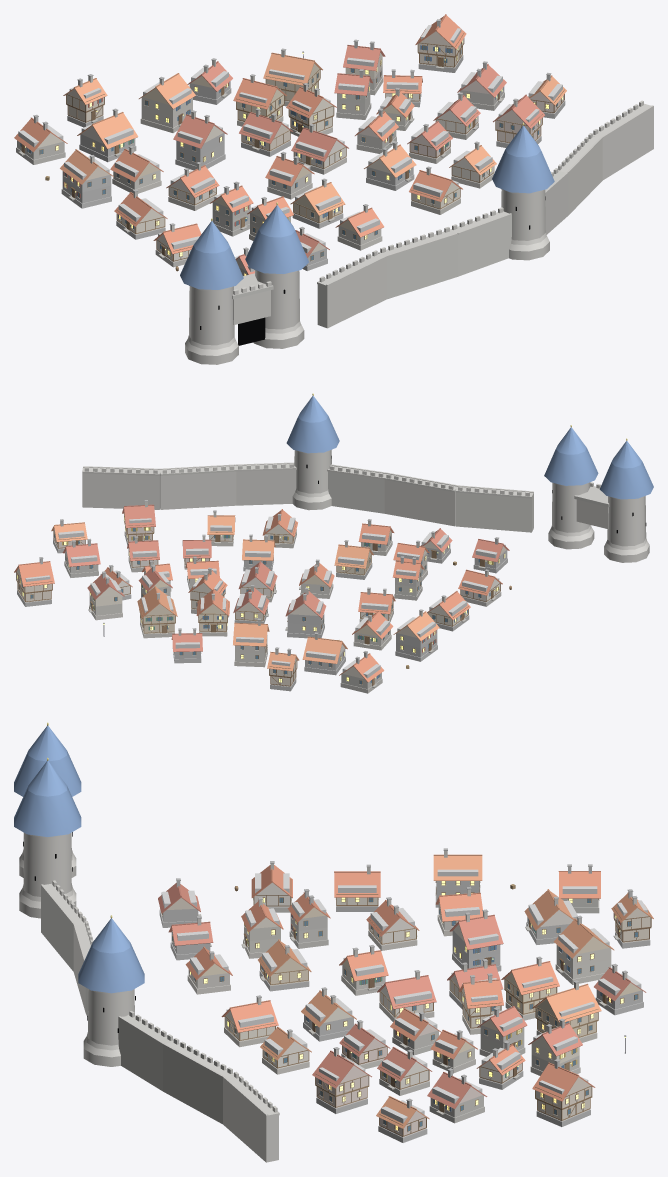
File: struct_8_9.glb
3 views of the same model, one above another, from view 1: azimuth 30°, elevation 25°; view 2: azimuth 150°, elevation 25°; view 3: azimuth 270°, elevation 25° (orthographic). The views are drawn at different scales.
Visible parts, largest first — view 1: HousesNear, Landmarks, Occluder-occonly, HousesFar; view 2: HousesNear, Landmarks, Occluder-occonly, HousesFar; view 3: HousesNear, Landmarks, Occluder-occonly, HousesFar.
Part boxes in pixels (left/top/right/bottom): HousesNear: left=14, top=14, right=566, bottom=275; Landmarks: left=45, top=51, right=653, bottom=364; Occluder-occonly: left=18, top=25, right=562, bottom=271; HousesFar: left=20, top=41, right=487, bottom=248; HousesNear: left=14, top=500, right=509, bottom=693; Landmarks: left=82, top=393, right=653, bottom=668; Occluder-occonly: left=25, top=516, right=505, bottom=678; HousesFar: left=72, top=535, right=490, bottom=683; HousesNear: left=158, top=848, right=653, bottom=1142; Landmarks: left=14, top=722, right=626, bottom=1162; Occluder-occonly: left=161, top=869, right=647, bottom=1123; HousesFar: left=245, top=864, right=637, bottom=1084.
Size of the model in its own units: 154 by 35.06 by 136.
